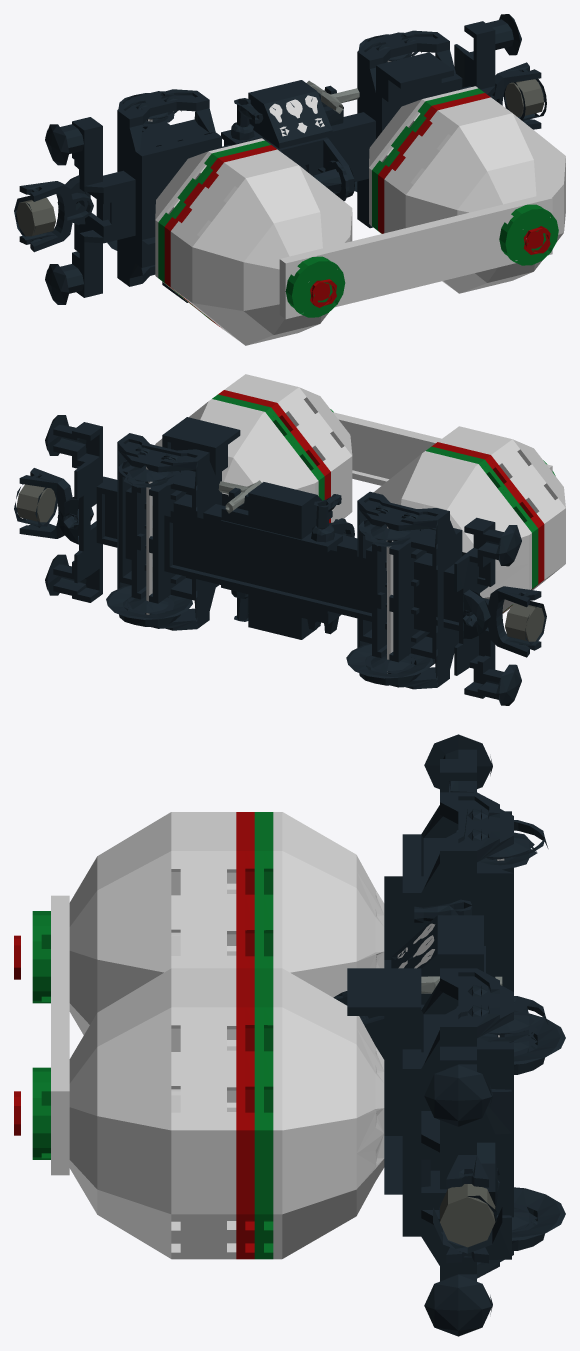
Rendered from octan-twin-tank-rail-tanker.glb.
3 renders of one model, top to bottom at view 1: azimuth 30°, elevation 25°; view 2: azimuth 150°, elevation 25°; view 3: azimuth 270°, elevation 25°, orthographic. The views are drawn at different scales.
Bounding box in the file's own units: 153 × 51.8 × 95.4.
